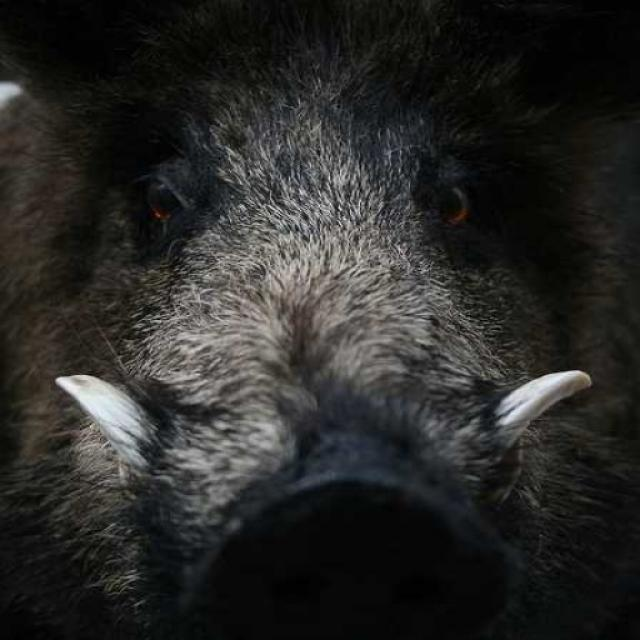pig: (55, 53, 640, 640)
